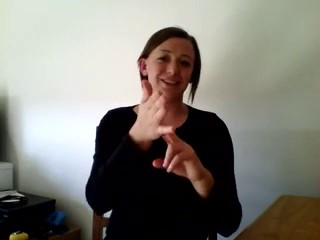N: (129, 78, 203, 180)
